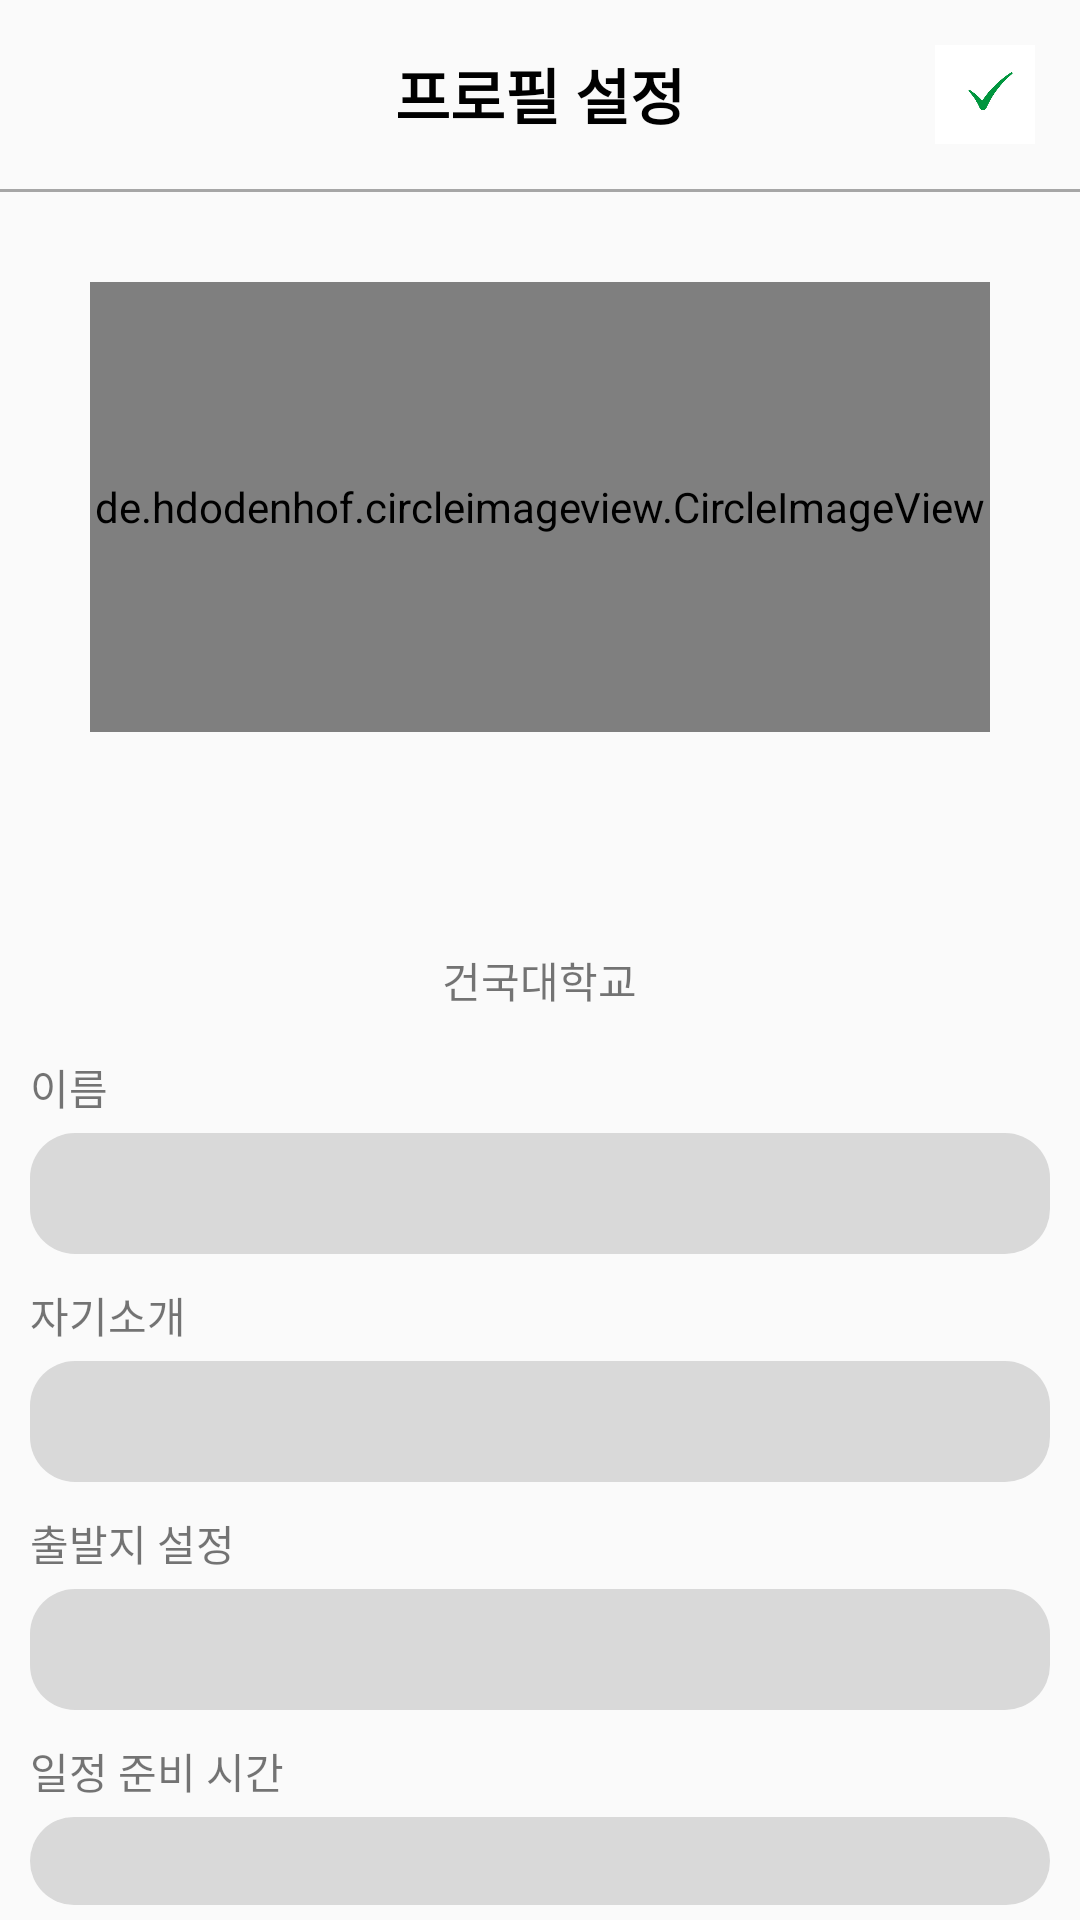

Icon click points for this 1080*1920 phone screenshot, format (x,y):
check: (990,91)
